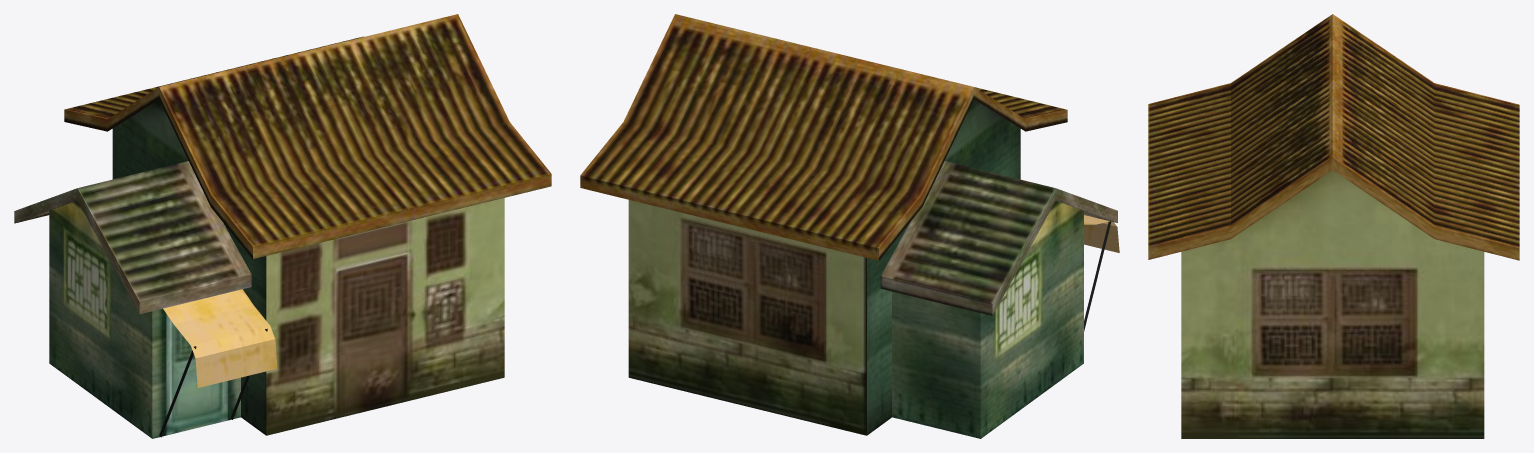
The model's file is fang1.FBX.
The picture shows the model from 3 angles, left to right: view 1: azimuth 30°, elevation 25°; view 2: azimuth 150°, elevation 25°; view 3: azimuth 270°, elevation 25°; orthographic projection.
Visible parts, largest first — view 1: h1; view 2: h1; view 3: h1.
Part boxes in pixels (box(x1,y1,x2,y2)): h1: box(14, 14, 551, 438); h1: box(580, 14, 1119, 438); h1: box(1148, 14, 1519, 438).
Bounding box in the file's own units: 439 × 376 × 331.
1 material, 1 textured.
